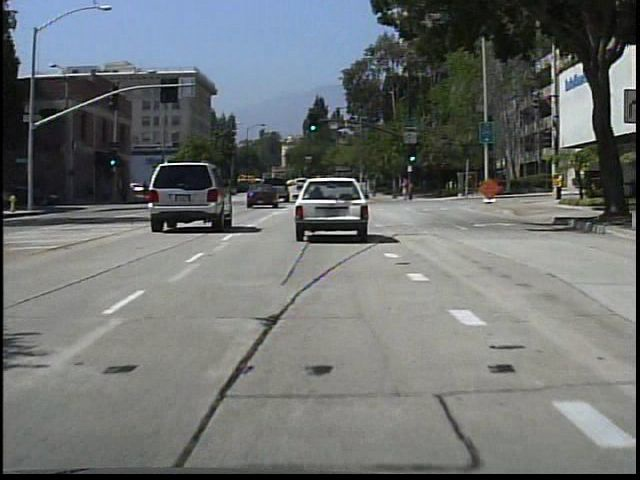person: (400, 173, 415, 205)
